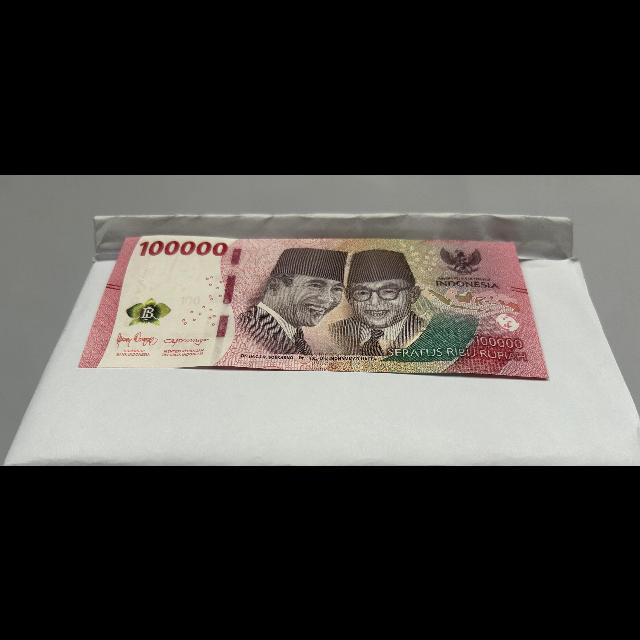Asli-100k: (75, 232, 555, 382)
Tinta-Asli-100k: (120, 296, 177, 326)
